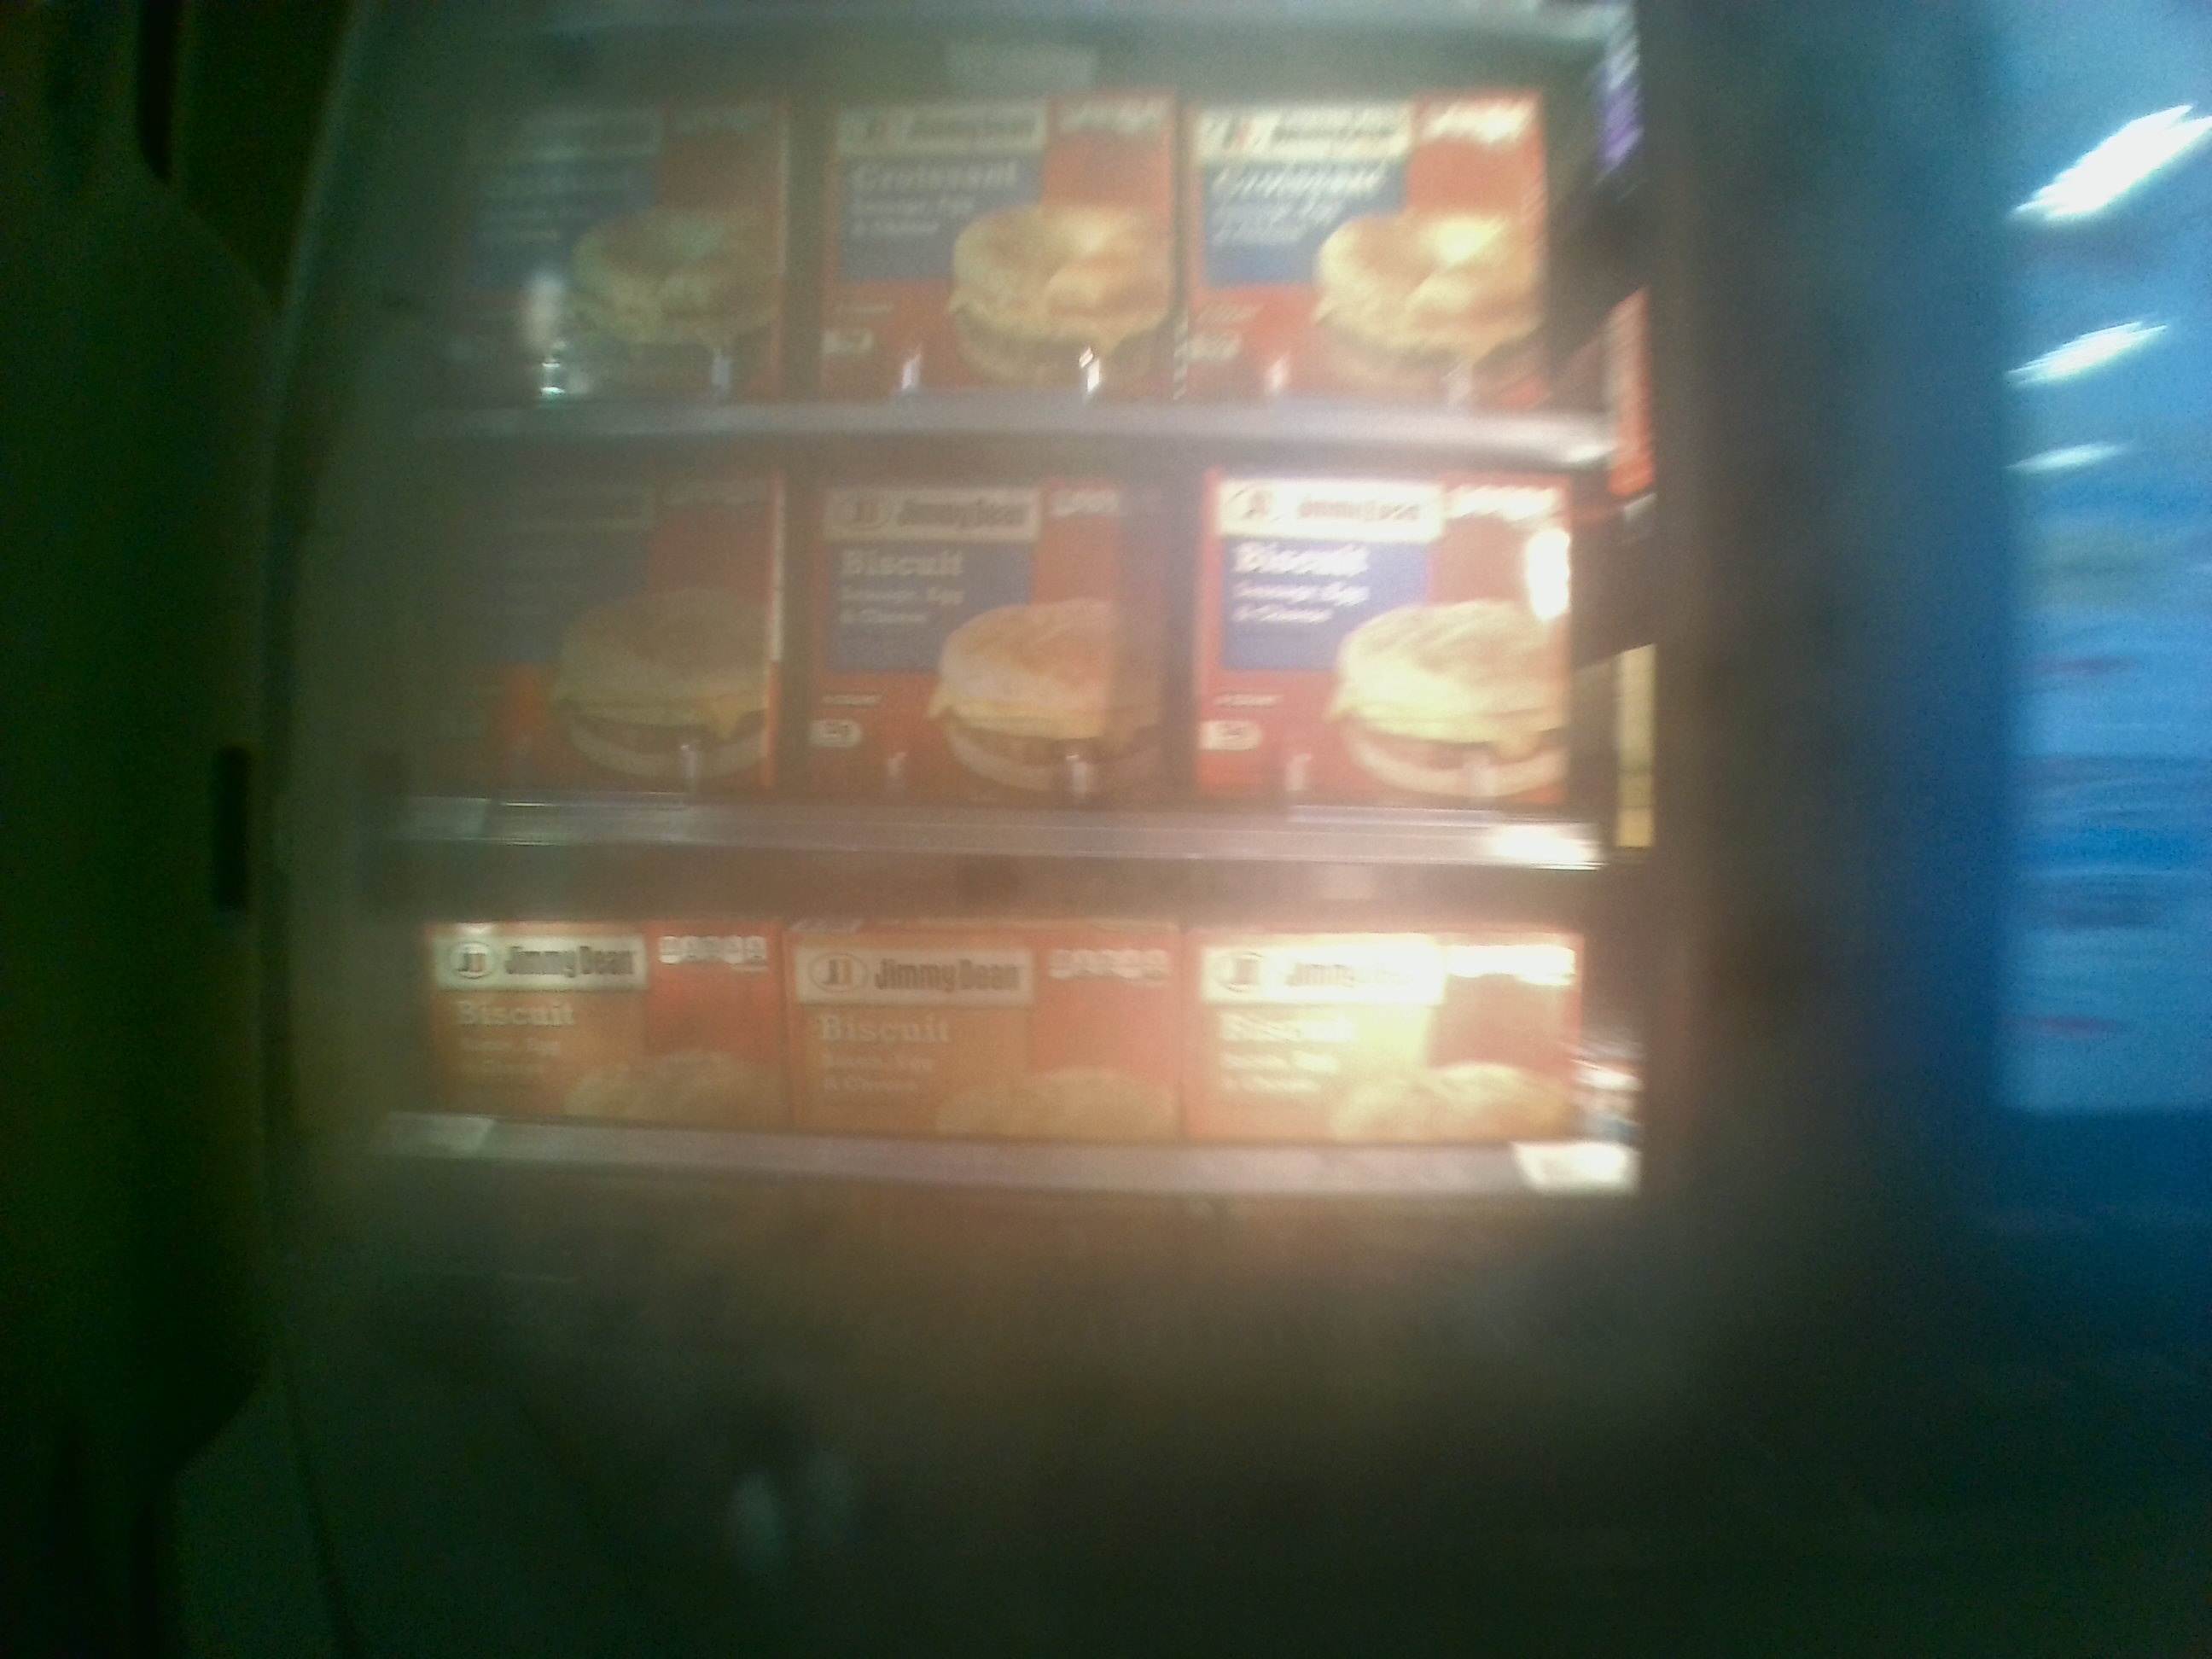shelf: (354, 845, 1648, 1309), (378, 439, 1639, 878)
